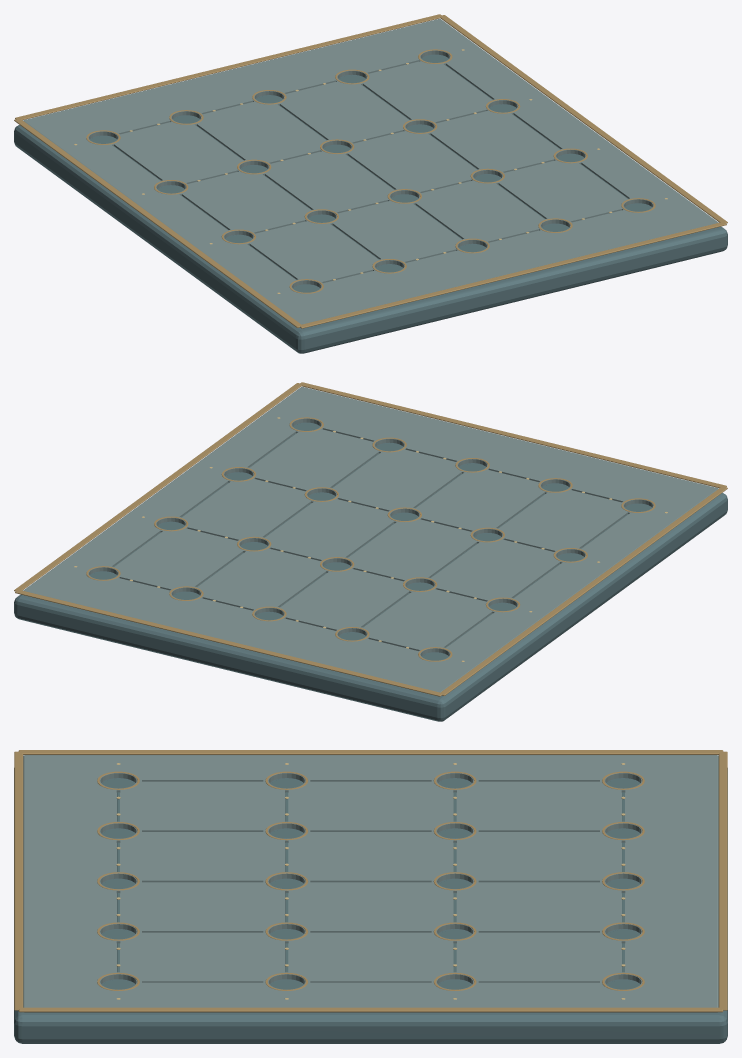
Rendered from foundry_deck.glb.
3 renders of one model, top to bottom at view 1: azimuth 30°, elevation 25°; view 2: azimuth 150°, elevation 25°; view 3: azimuth 270°, elevation 25°, orthographic. The views are drawn at different scales.
Parts seen in each view (by area): view 1: Surface_DeckEnamel, Surface_Iron, Surface_Brass, Surface_SocketRecess; view 2: Surface_DeckEnamel, Surface_Iron, Surface_Brass, Surface_SocketRecess; view 3: Surface_DeckEnamel, Surface_Iron, Surface_Brass, Surface_SocketRecess.
Boxes of the visible parts, left/top/right/bottom form: Surface_DeckEnamel: left=23, top=19, right=718, bottom=324; Surface_Iron: left=14, top=54, right=727, bottom=353; Surface_Brass: left=14, top=14, right=727, bottom=328; Surface_SocketRecess: left=90, top=55, right=651, bottom=292; Surface_DeckEnamel: left=23, top=387, right=718, bottom=692; Surface_Iron: left=14, top=422, right=727, bottom=721; Surface_Brass: left=14, top=382, right=727, bottom=696; Surface_SocketRecess: left=90, top=423, right=651, bottom=660; Surface_DeckEnamel: left=23, top=755, right=718, bottom=1012; Surface_Iron: left=14, top=768, right=727, bottom=1043; Surface_Brass: left=14, top=750, right=727, bottom=1012; Surface_SocketRecess: left=102, top=779, right=639, bottom=989.
Size of the model in its own units: 10.4 by 0.66 by 12.
